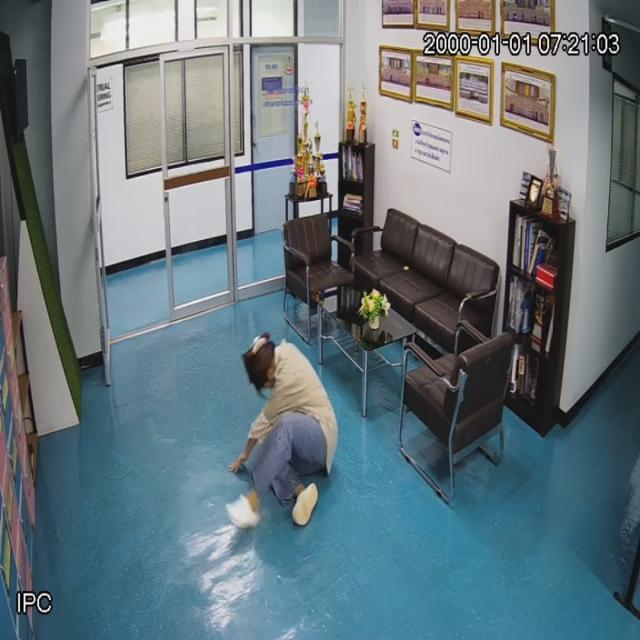fall: (227, 335, 340, 520)
